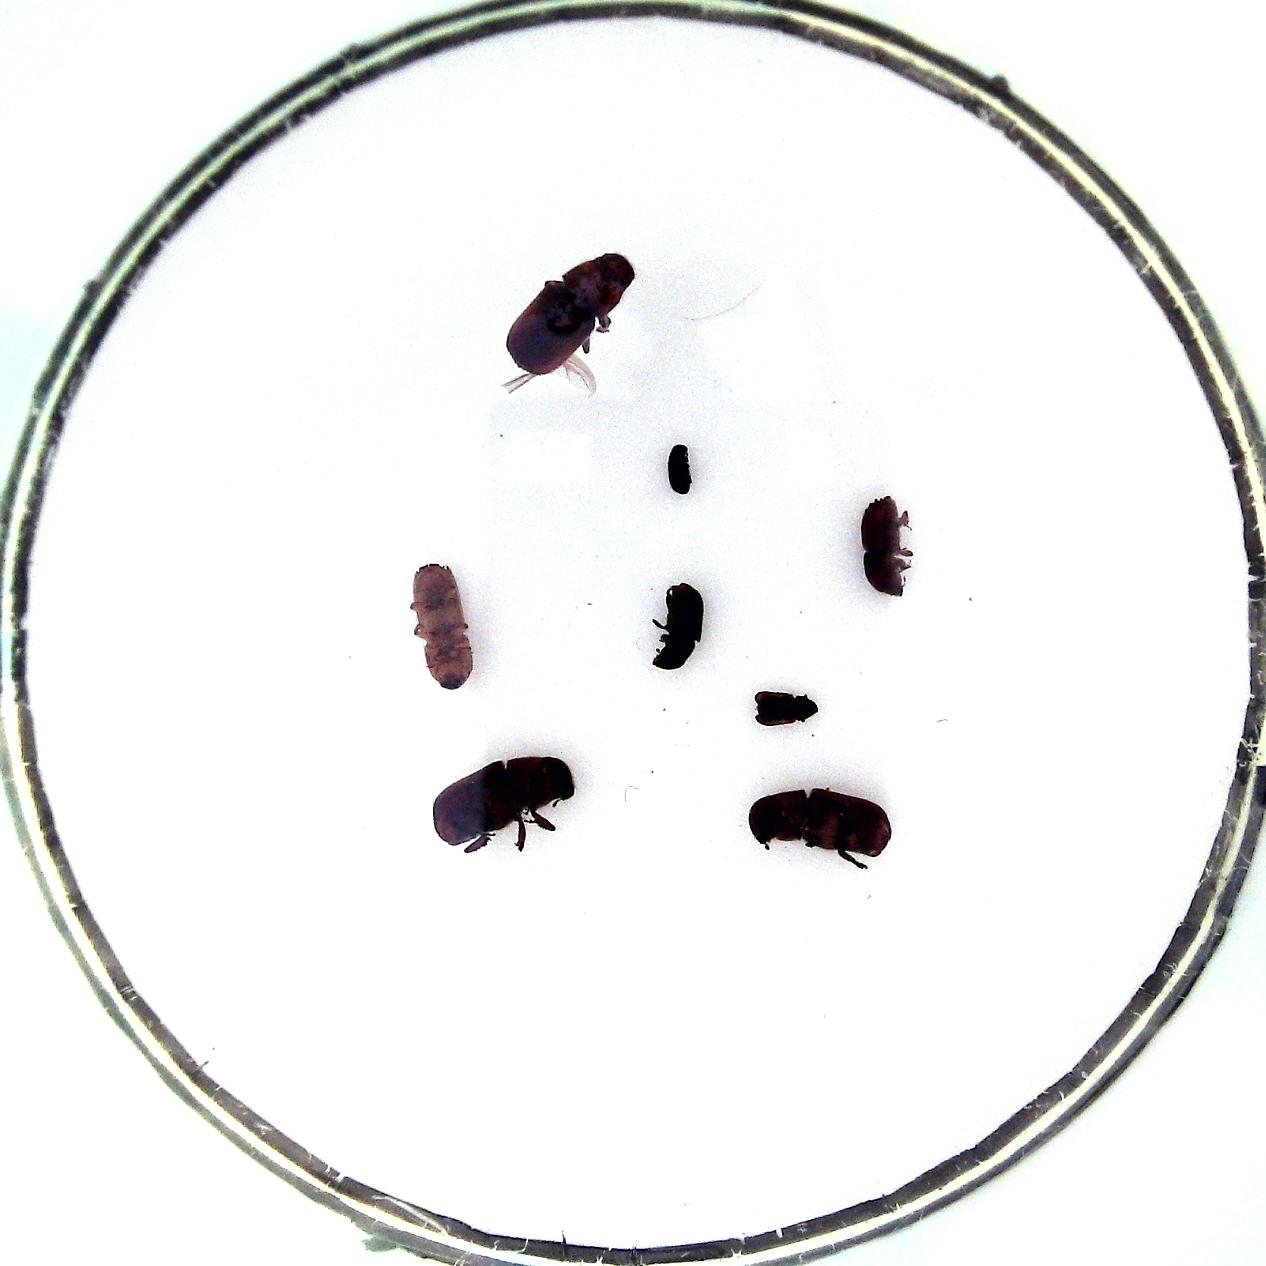Boerner: (412, 562, 472, 691)
Leconte: (505, 254, 633, 377), (432, 755, 576, 846), (749, 788, 892, 860)
acuminatus: (668, 444, 692, 495)
armandi: (650, 583, 704, 670)
coleoptera: (754, 692, 818, 726)
linnaeus: (860, 496, 904, 598)
